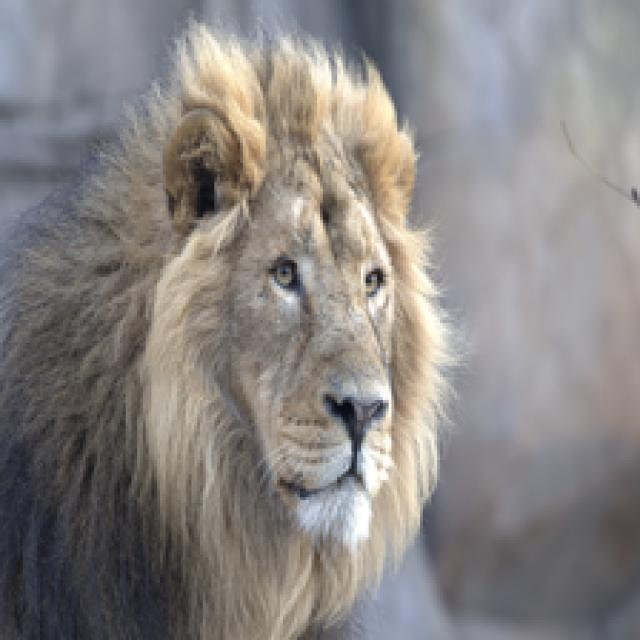lion: (0, 7, 465, 640)
